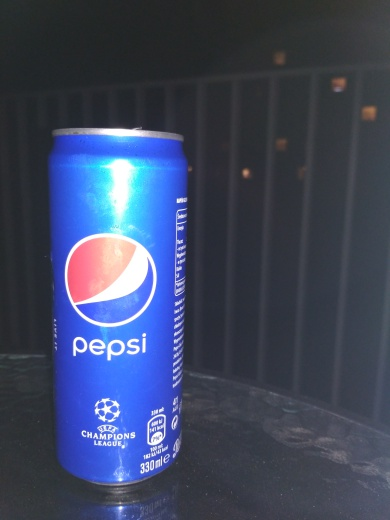pepsi: (42, 120, 202, 492)
